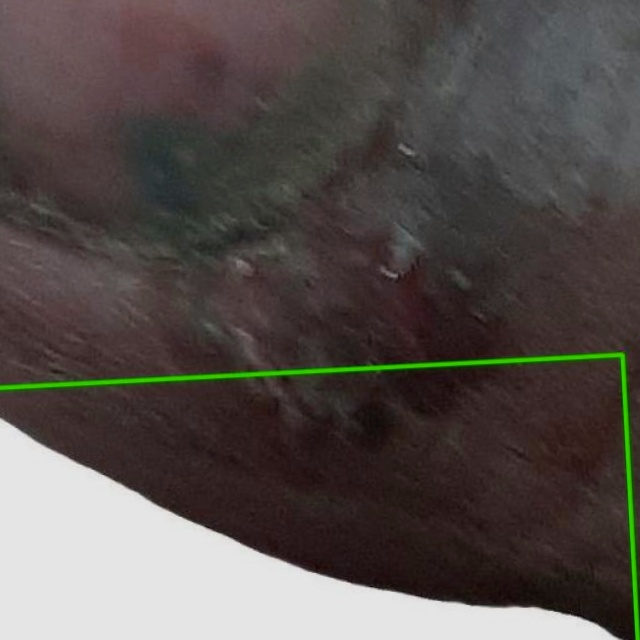Eczema: (0, 356, 638, 639)
